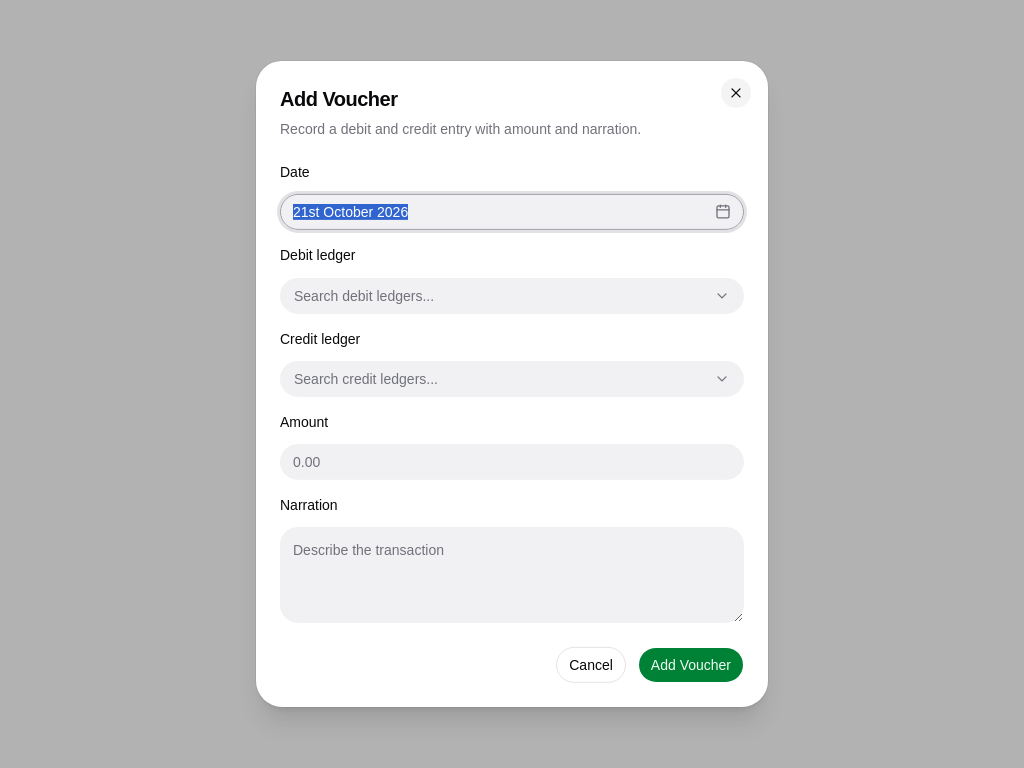
AddVoucherDialog › shows validation errors when submitting an empty form
The width and height of the screenshot is (1024, 768).
Clear the field labelled "Date": (496, 212) x1=281 y1=194 x2=711 y2=230
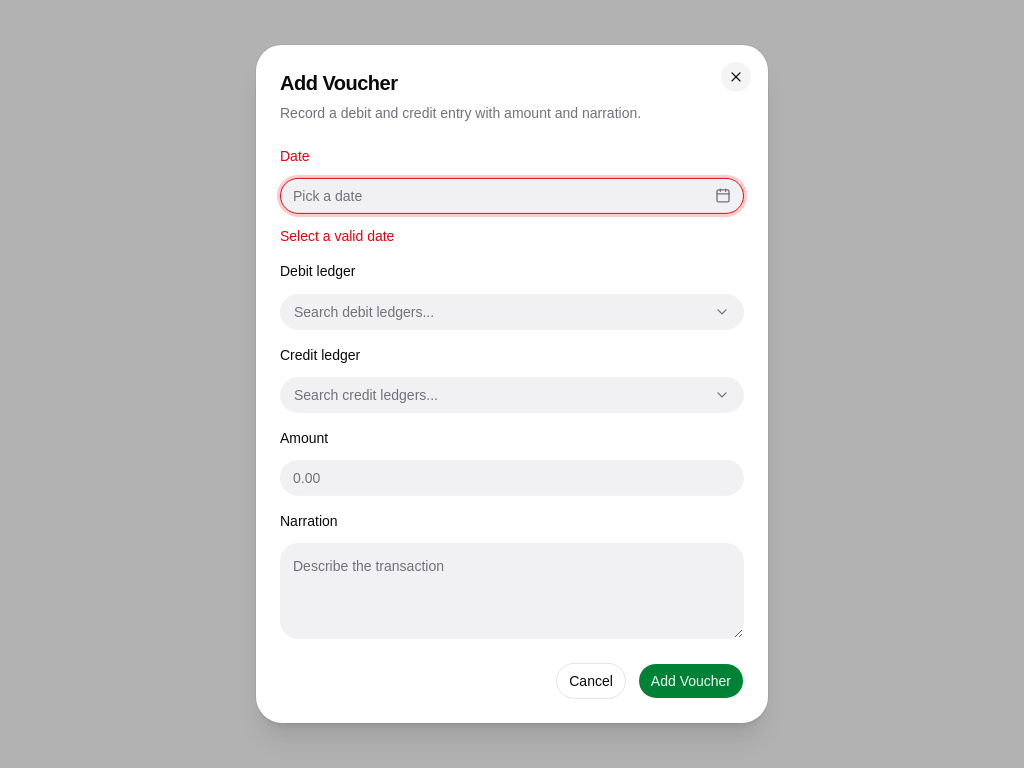
Click the button "Add Voucher": (691, 681) x1=638 y1=663 x2=744 y2=699
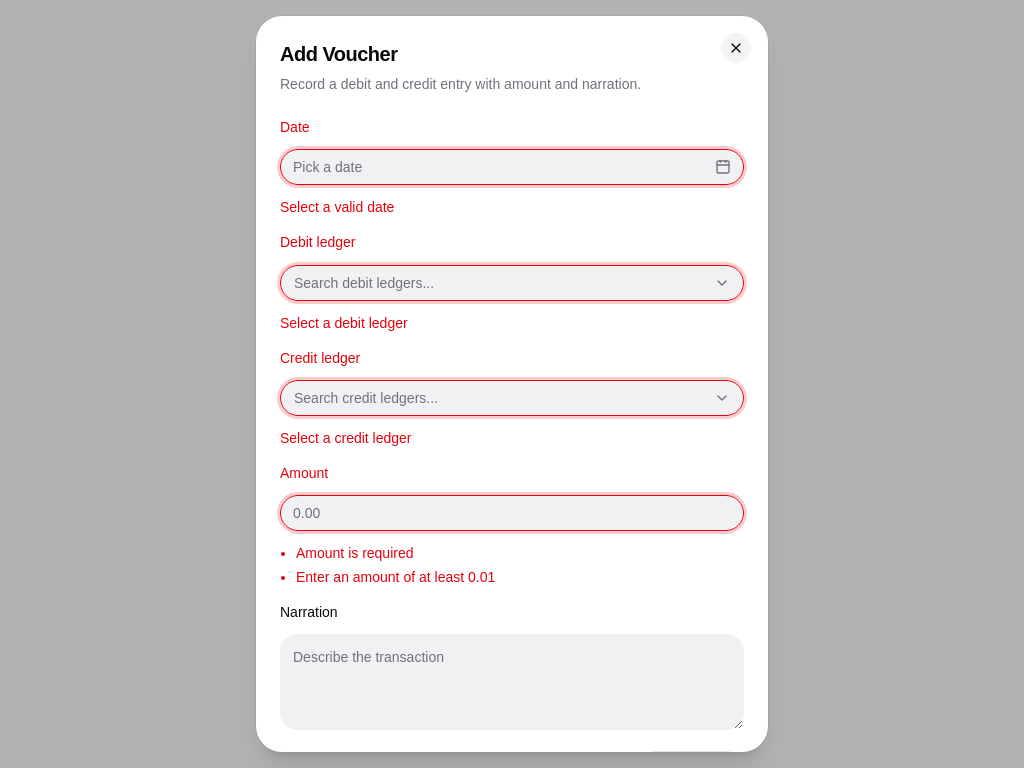
Check: the text "Select a valid date" is shown, box x1=280 y1=199 x2=394 y2=215
Check: the text "Select a debit ledger" is shown, box x1=280 y1=314 x2=408 y2=330
Check: the text "Select a credit ledger" is shown, box x1=280 y1=430 x2=412 y2=446
